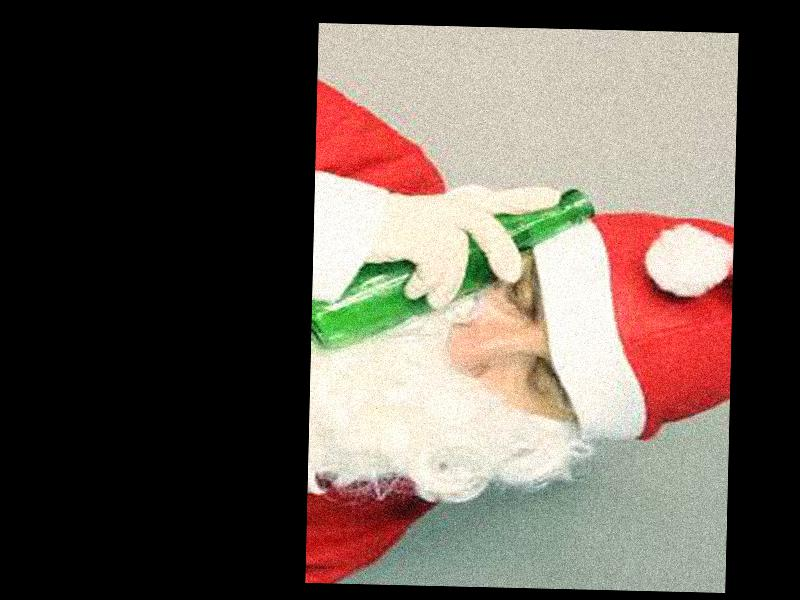Beer: (310, 181, 592, 352)
